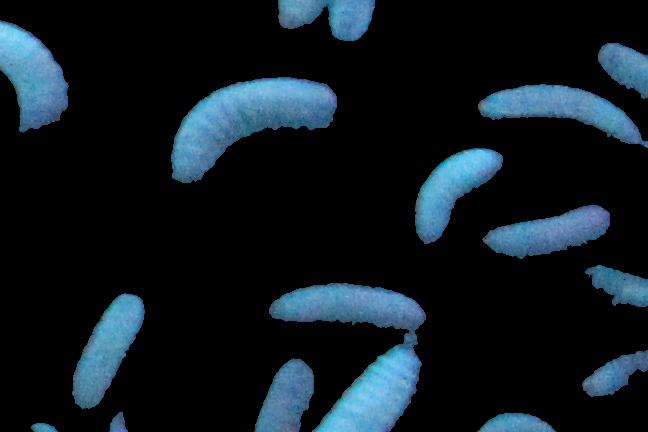larvae: (177, 78, 327, 184), (1, 13, 73, 147), (325, 337, 422, 432), (69, 296, 148, 401), (477, 80, 625, 136), (418, 144, 499, 242), (274, 278, 420, 326), (484, 203, 604, 256), (257, 363, 320, 432), (580, 341, 648, 403), (270, 1, 328, 32), (332, 1, 371, 41)
